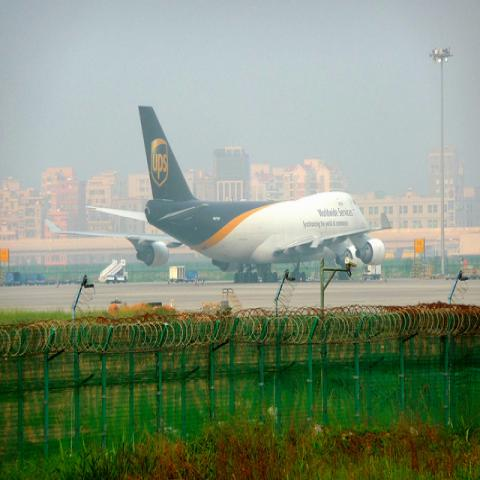truck: (167, 264, 196, 282), (105, 275, 127, 284)
